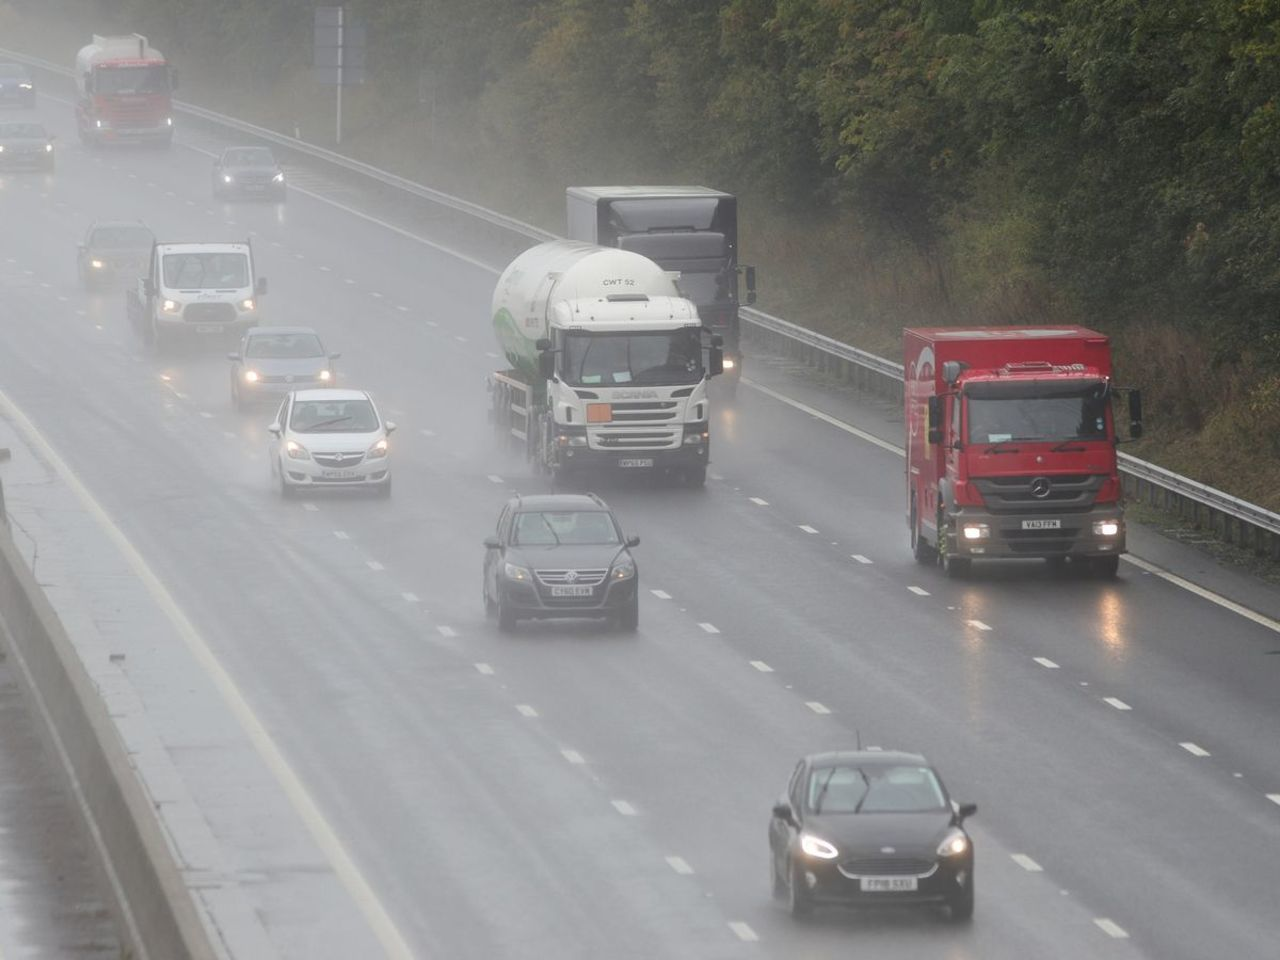car: (765, 749, 979, 929), (480, 491, 643, 637), (266, 384, 396, 496), (224, 323, 338, 411), (77, 221, 155, 289), (212, 144, 286, 201), (2, 117, 55, 169), (2, 61, 32, 100)
truck: (495, 209, 731, 492), (900, 323, 1122, 582), (564, 181, 743, 392), (127, 237, 261, 350), (76, 37, 174, 144)
